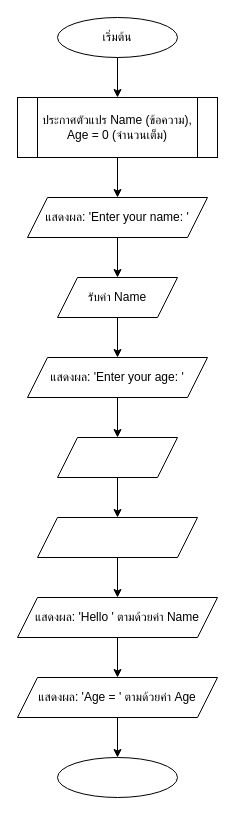
Some shapes in this 235 by 815 pixel diagram are drawn without their labels. The centre of each missing label's shape, as x and y in pixels:
จบ: point 117,777
รับค่า Age: point 117,457
แสดงผล: '- - - - - -': point 117,537
